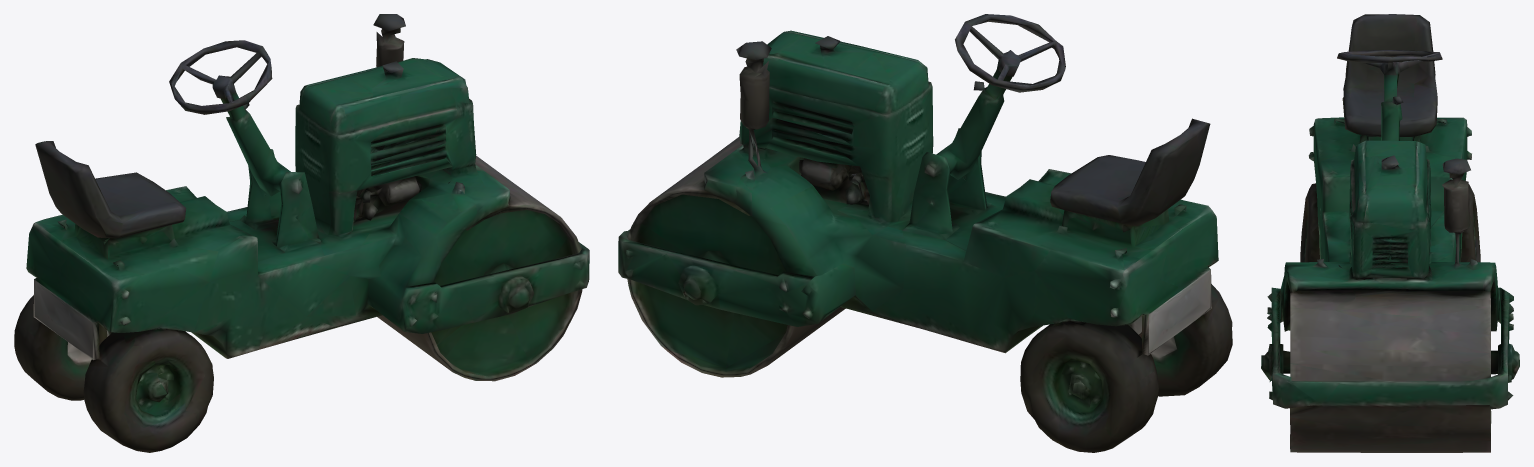
The model's file is roller.glb.
3 views of the same model, side by side, from view 1: azimuth 30°, elevation 25°; view 2: azimuth 150°, elevation 25°; view 3: azimuth 270°, elevation 25° (orthographic). The views are drawn at different scales.
Visible parts, largest first — view 1: roller; view 2: roller; view 3: roller.
Boxes of the visible parts, x1=… form: roller: x1=14, y1=14, x2=589, y2=452; roller: x1=618, y1=14, x2=1232, y2=452; roller: x1=1261, y1=14, x2=1519, y2=452.
Bounding box in the file's own units: 2.6 × 1.74 × 1.33.
Materials: 1 (1 with a texture image).
